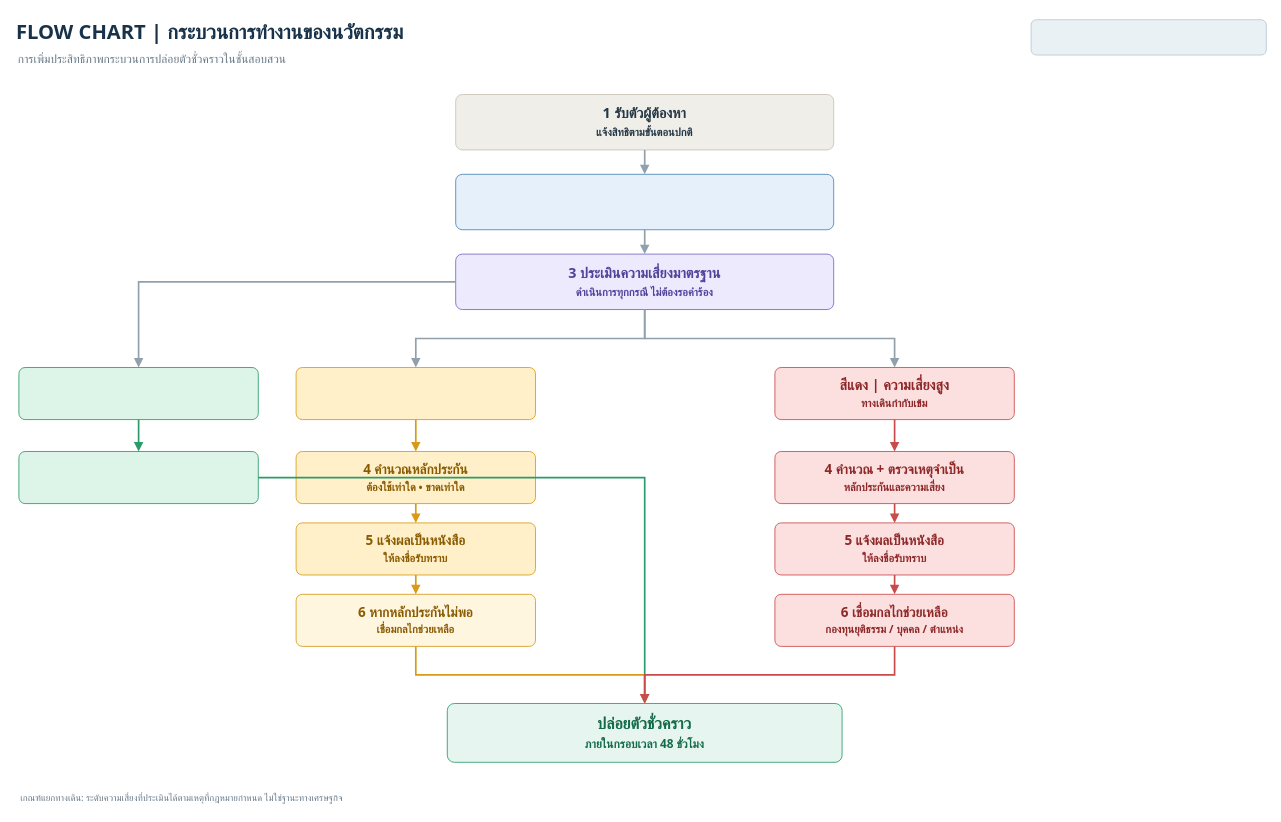
Some shapes in this 1281 by 822 pixel diagram are drawn without their labels. Each missing label, with the centre of its shape:
"2 ดึงข้อมูลจากระบบภาครัฐ ทรัพย์สิน • ประวัติ • สถานะคดี" goes at (x=644, y=201).
"4 ปล่อยตัวทันที ไม่ต้องเรียกหลักประกัน" goes at (x=138, y=477).
"สีเขียว | ความเสี่ยงต่ำ ทางเดินเร่งรัด" goes at (x=138, y=393).
"สีเหลือง | ความเสี่ยงปานกลาง ทางเดินมีหลักประกัน" goes at (x=415, y=393).
"เป้าหมาย: ภายใน 48 ชั่วโมง" goes at (x=1148, y=37).
